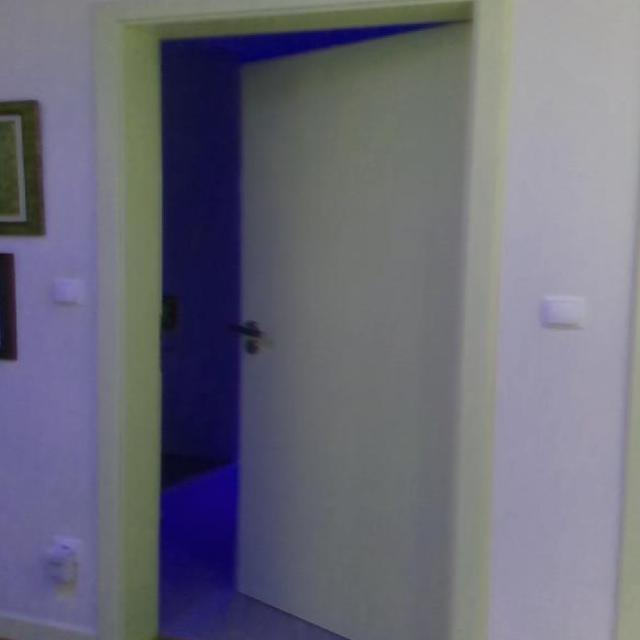door: (231, 20, 485, 638)
